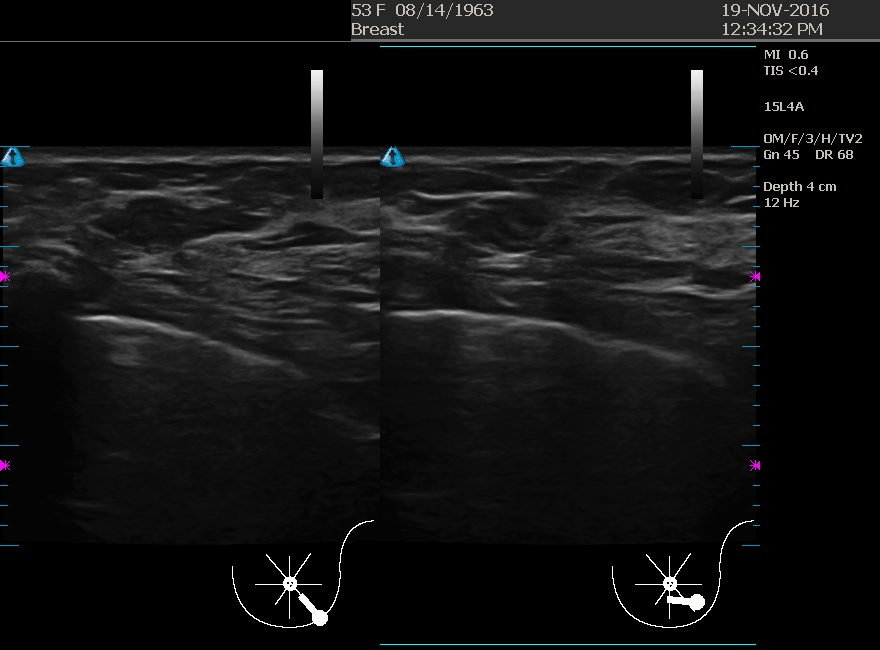BIRADS_3: (385, 172, 585, 372)
BIRADS_4: (77, 151, 277, 351)
